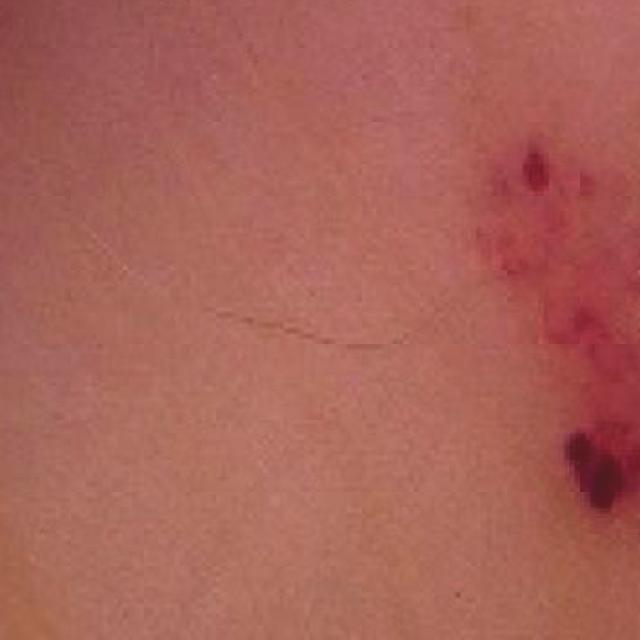VASC: (458, 85, 640, 638)
